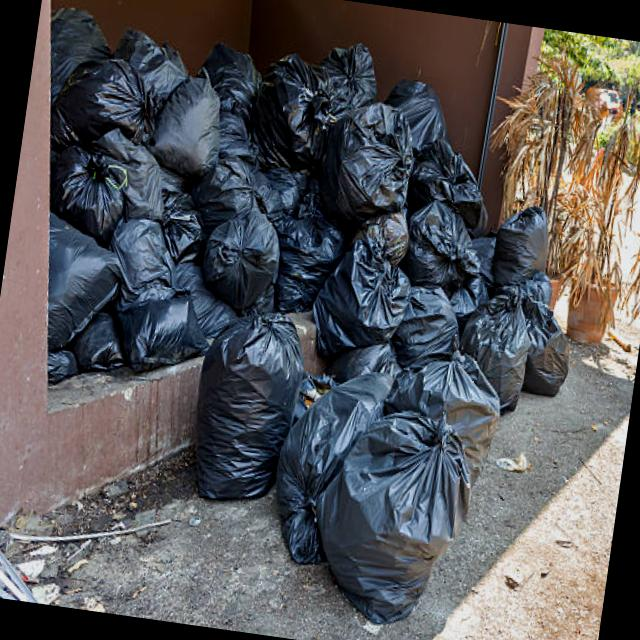garbage: (0, 0, 611, 636)
